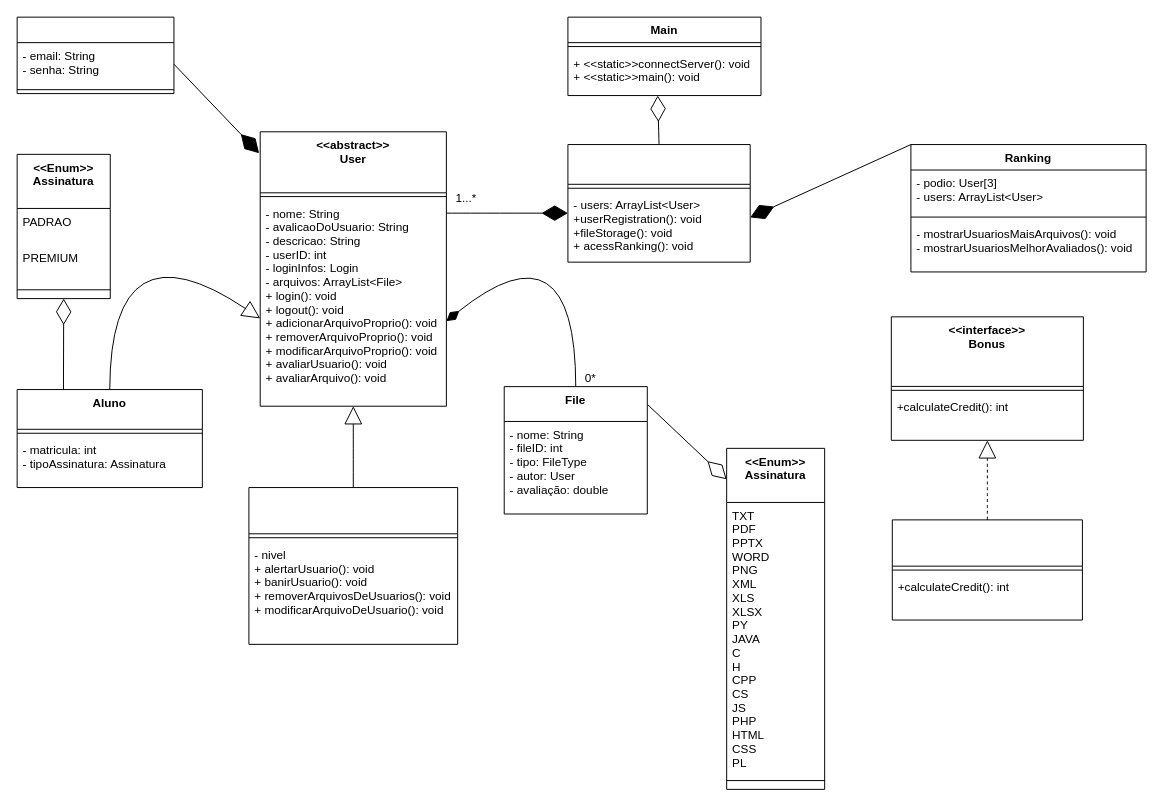
Some shapes in this 1163 by 807 pixel diagram are drawn without their labels. Each missing label, with the box of its shape:
Login: (16, 16, 174, 94)
Moderador: (248, 487, 458, 644)
System: (567, 144, 750, 262)
UserCredit: (891, 519, 1082, 620)
